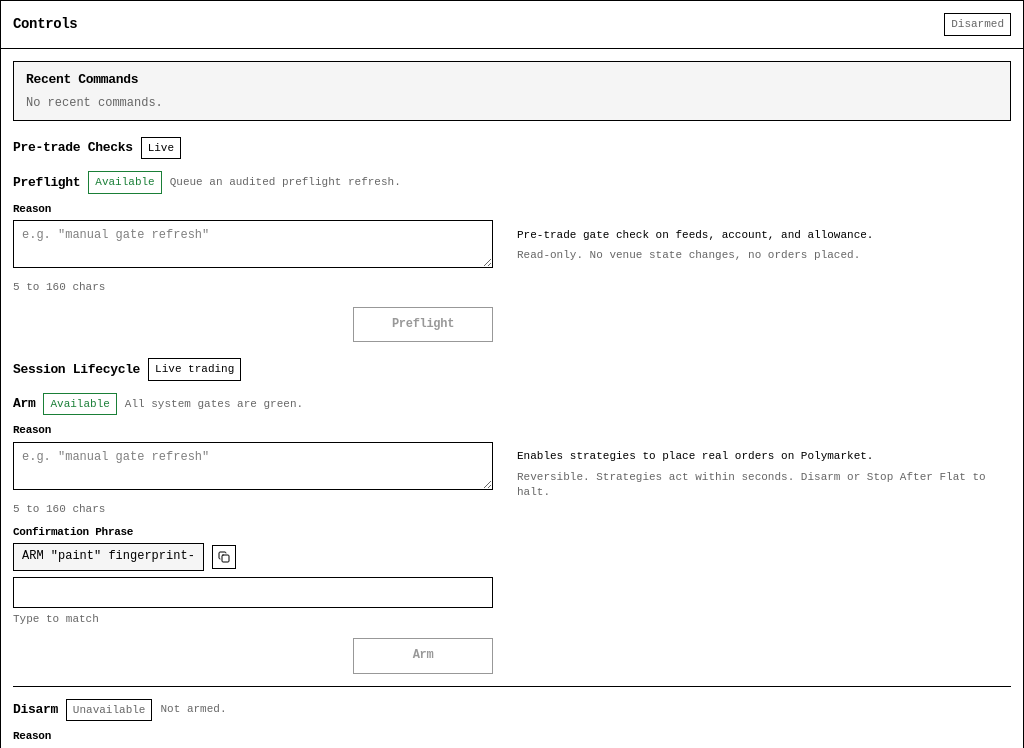
Test: scopes per-action errors to the action that failed
Type "manual gate refresh" into the text box labelled "Reason" below "Queue an audited preflight refresh.". click: (253, 244)
box: [13,220,493,268]
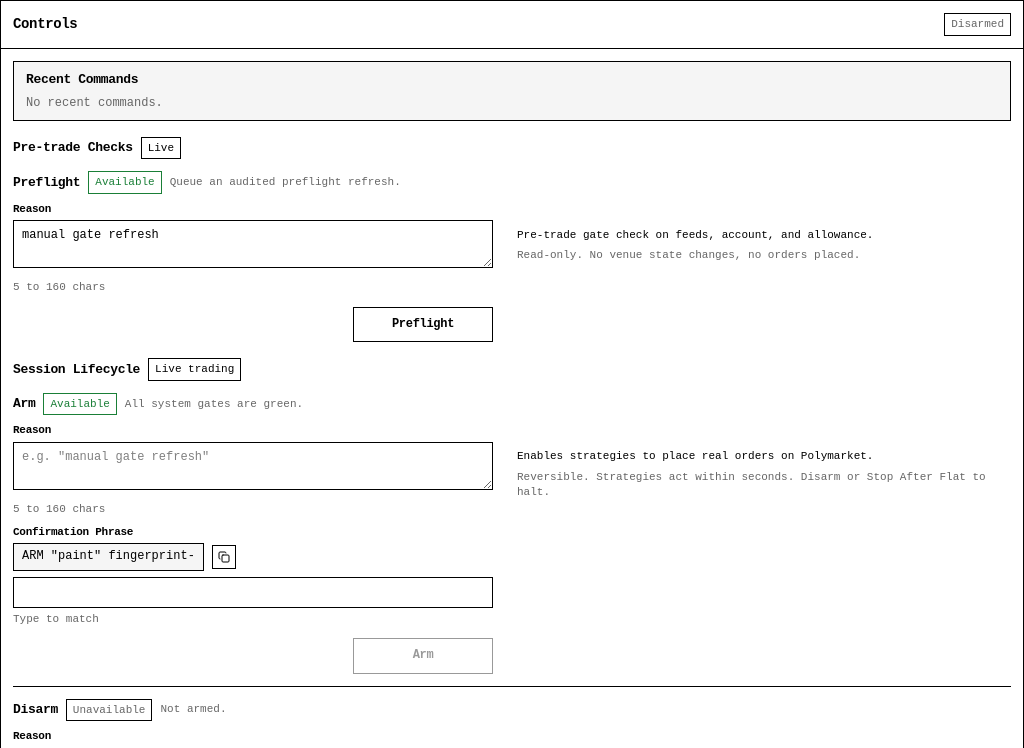
Click the button "Preflight". click: (423, 325)
box: [353,307,493,342]
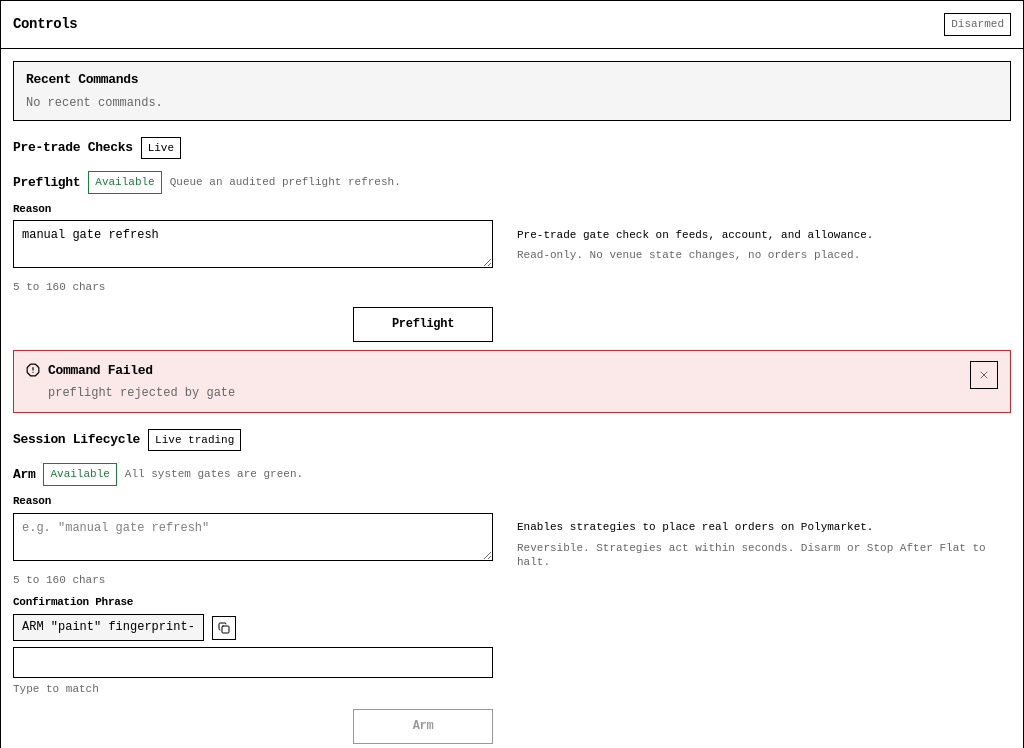
expect the text "Command Failed" is shown: met, box [48,363,153,378]
expect the text "preflight rejected by gate" is shown: met, box [48,386,235,400]
